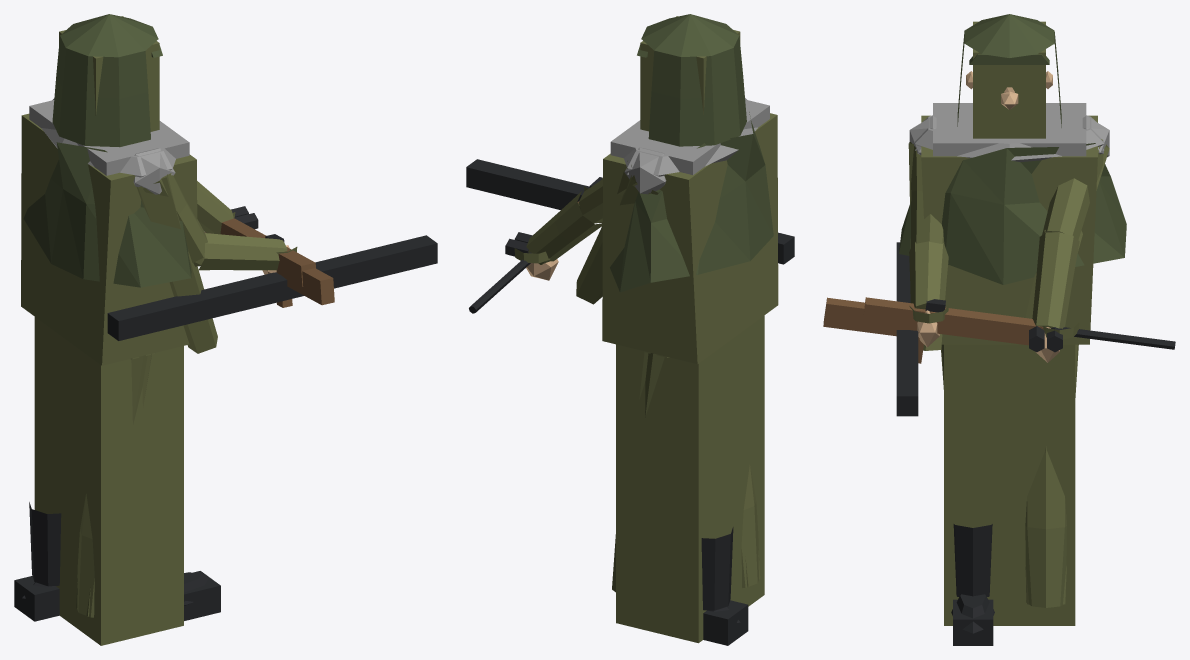
The model's file is meridian_scout.glb.
The picture shows the model from 3 angles, left to right: view 1: azimuth 30°, elevation 25°; view 2: azimuth 150°, elevation 25°; view 3: azimuth 270°, elevation 25°; orthographic projection.
Visible parts, largest first — view 1: leg_l (×3), torso (×2), arm_r (×3), head (×2), leg_r (×2), arm_l; view 2: leg_l (×3), torso (×2), head (×2), arm_l (×2), arm_r (×2), leg_r; view 3: leg_l (×2), torso (×2), arm_r (×3), head (×2), arm_l, leg_r (×2).
Part boxes in pixels (bbox=[...]): leg_l (×3): bbox=[14, 317, 183, 645]; torso (×2): bbox=[21, 98, 197, 365]; arm_r (×3): bbox=[107, 148, 437, 353]; head (×2): bbox=[52, 14, 162, 147]; leg_r (×2): bbox=[76, 353, 220, 620]; arm_l: bbox=[197, 181, 258, 234]; leg_l (×3): bbox=[612, 315, 764, 645]; torso (×2): bbox=[602, 98, 778, 364]; head (×2): bbox=[637, 14, 746, 146]; arm_l (×2): bbox=[505, 147, 666, 304]; arm_r (×2): bbox=[466, 159, 794, 313]; leg_r: bbox=[741, 465, 759, 587]; leg_l (×2): bbox=[944, 344, 1078, 625]; torso (×2): bbox=[899, 103, 1126, 344]; arm_r (×3): bbox=[823, 116, 1175, 416]; head (×2): bbox=[957, 14, 1061, 138]; arm_l: bbox=[1029, 116, 1109, 362]; leg_r (×2): bbox=[941, 344, 994, 645].
Size of the model in its own units: 1.07 by 1.79 by 0.9654.
